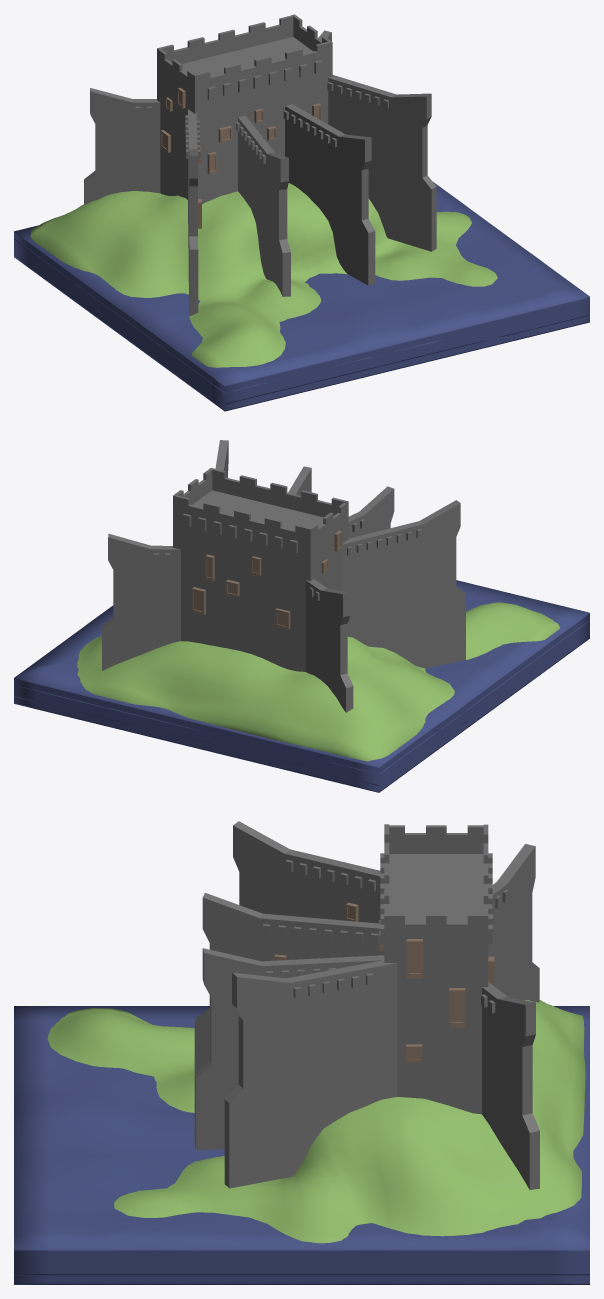
Rendered from dragonstone-with-lights.glb.
The picture shows the model from 3 angles, top to bottom: view 1: azimuth 30°, elevation 25°; view 2: azimuth 150°, elevation 25°; view 3: azimuth 270°, elevation 25°; orthographic projection. The views are drawn at different scales.
Parts seen in each view (by area): view 1: Plane002, Plane, Cube035, Cube028, Cube019, Cube040, Cube021, Cube025, Cube045; view 2: Plane, Plane002, Cube035, Cube025, Cube037, Cube040, Cube021, Cube044, Cube027; view 3: Plane002, Plane, Cube028, Cube035, Cube025, Cube037, Cube019, Cube021, Cube040, Cube023, Cube026, Cube005 (+2 smaller).
Part boxes in pixels (x1=…): Plane002: x1=14, y1=182, x2=589, y2=411; Plane: x1=30, y1=183, x2=497, y2=367; Cube035: x1=157, y1=14, x2=332, y2=203; Cube028: x1=328, y1=75, x2=436, y2=251; Cube019: x1=285, y1=104, x2=375, y2=285; Cube040: x1=84, y1=88, x2=160, y2=205; Cube021: x1=238, y1=115, x2=290, y2=296; Cube025: x1=188, y1=109, x2=198, y2=315; Cube045: x1=207, y1=60, x2=322, y2=99; Plane: x1=76, y1=602, x2=559, y2=761; Plane002: x1=14, y1=580, x2=589, y2=792; Cube035: x1=173, y1=468, x2=348, y2=671; Cube025: x1=342, y1=500, x2=465, y2=668; Cube037: x1=102, y1=533, x2=180, y2=670; Cube040: x1=305, y1=579, x2=353, y2=712; Cube021: x1=348, y1=486, x2=394, y2=538; Cube044: x1=182, y1=513, x2=297, y2=553; Cube027: x1=347, y1=529, x2=422, y2=555; Plane002: x1=14, y1=1006, x2=589, y2=1284; Plane: x1=47, y1=1000, x2=585, y2=1243; Cube028: x1=224, y1=960, x2=397, y2=1188; Cube035: x1=384, y1=824, x2=488, y2=1114; Cube025: x1=233, y1=821, x2=380, y2=923; Cube037: x1=482, y1=982, x2=539, y2=1189; Cube019: x1=194, y1=948, x2=384, y2=1150; Cube021: x1=194, y1=892, x2=384, y2=1072; Cube040: x1=488, y1=844, x2=539, y2=1002; Cube023: x1=263, y1=924, x2=378, y2=945; Cube026: x1=285, y1=859, x2=375, y2=891; Cube005: x1=406, y1=939, x2=422, y2=978.
Bounding box in the file's own units: 16.58 × 9.12 × 16.55.
